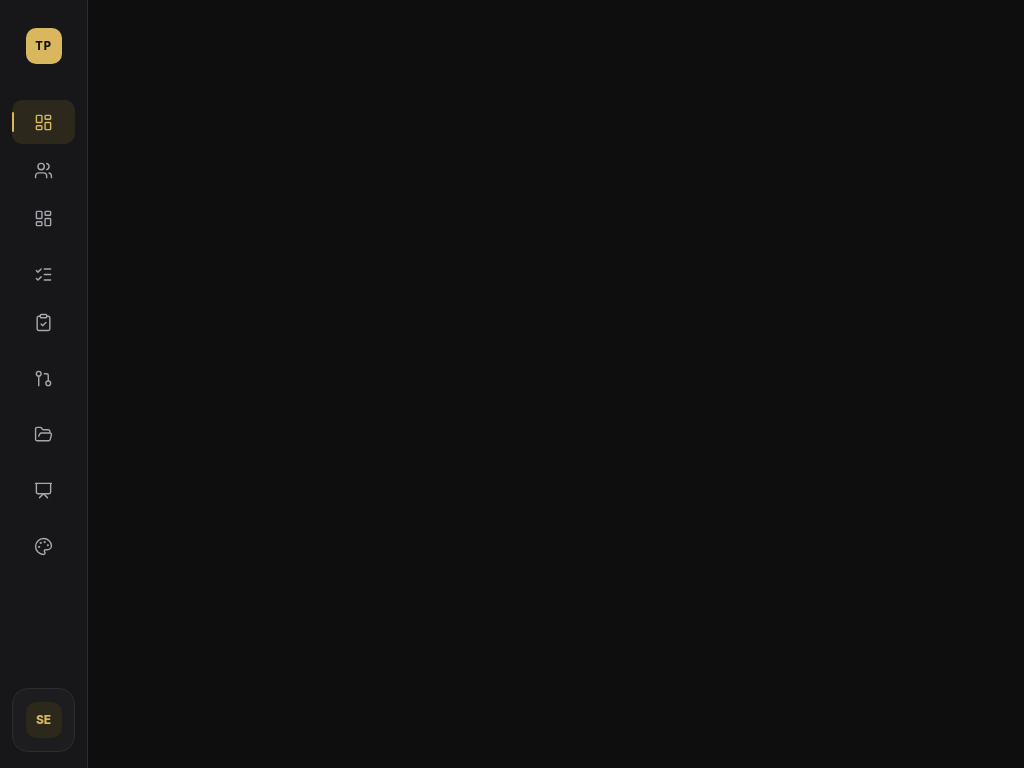
Test: workspace switcher › creates another workspace from the switcher and opens its project list
Click the button named "Current workspace Software Engineering 4 members": coordinates (44, 720) [12,688,75,752]
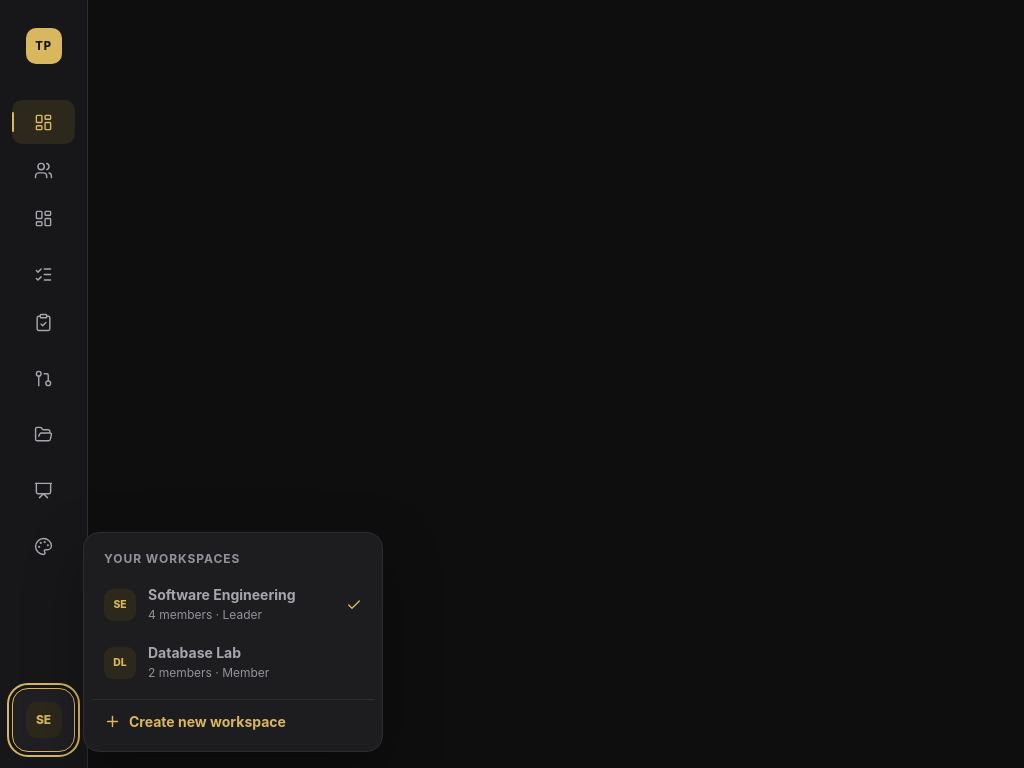
Click the menu item "Create new workspace": coordinates (233, 721) [92,699,374,743]
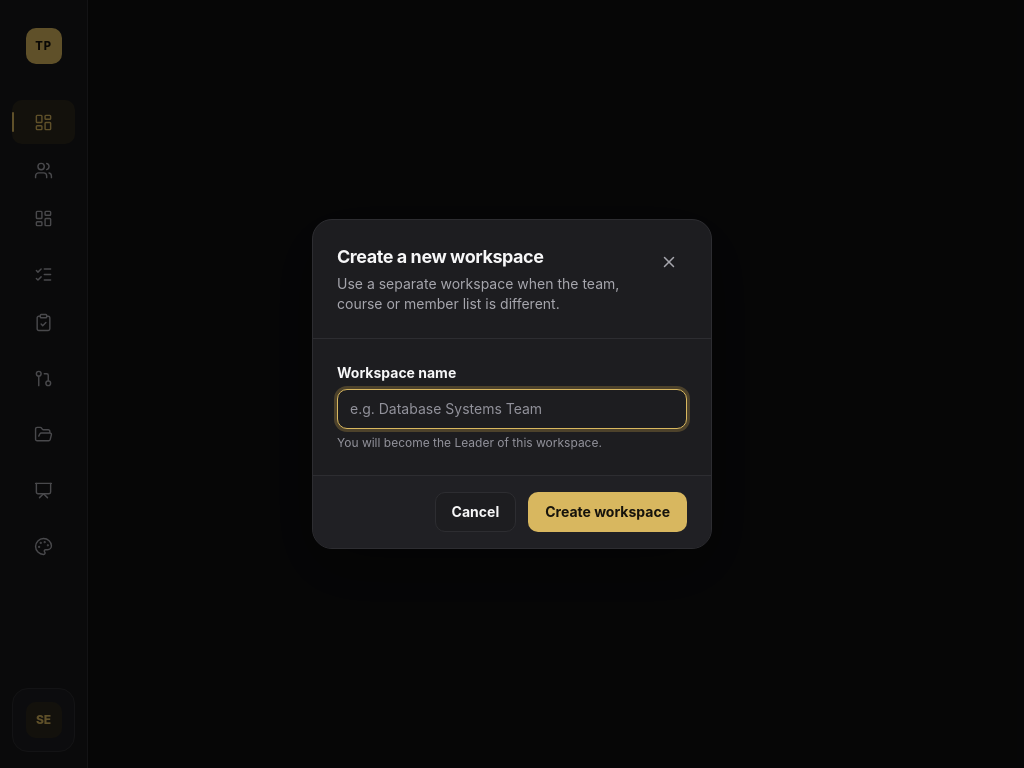
In the field labelled "Workspace name": coordinates (512, 409) [338,390,686,428], type "Operating Systems"
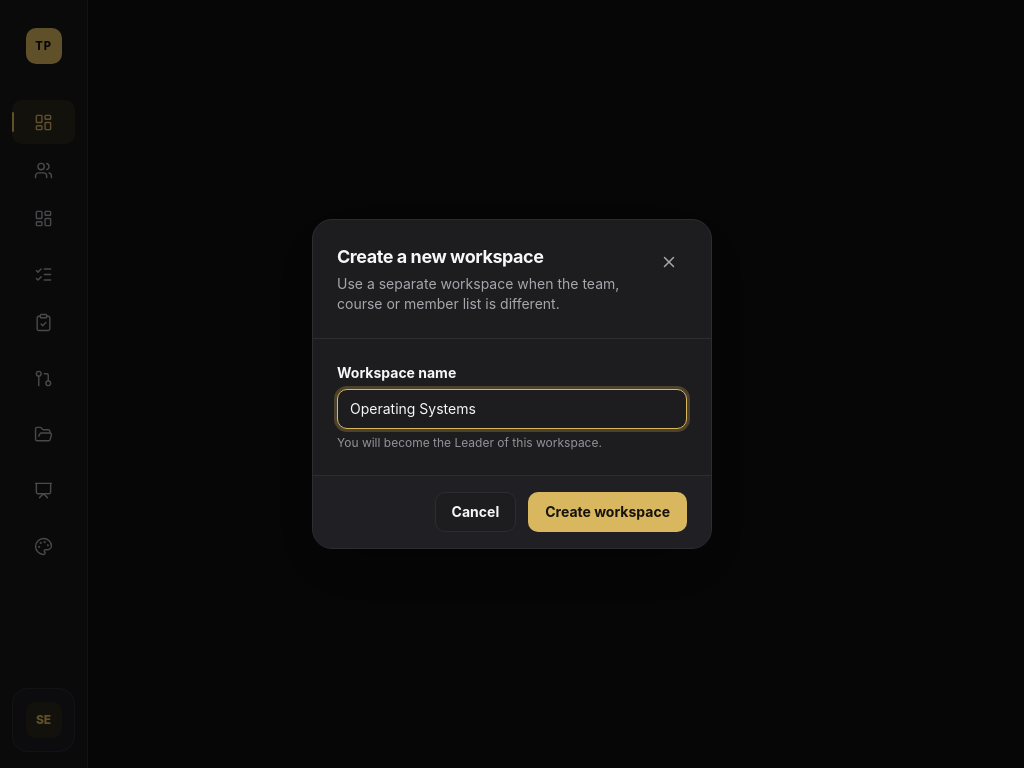
Click the button "Create workspace": coordinates (608, 512) [528,492,687,532]
(page scrolled)
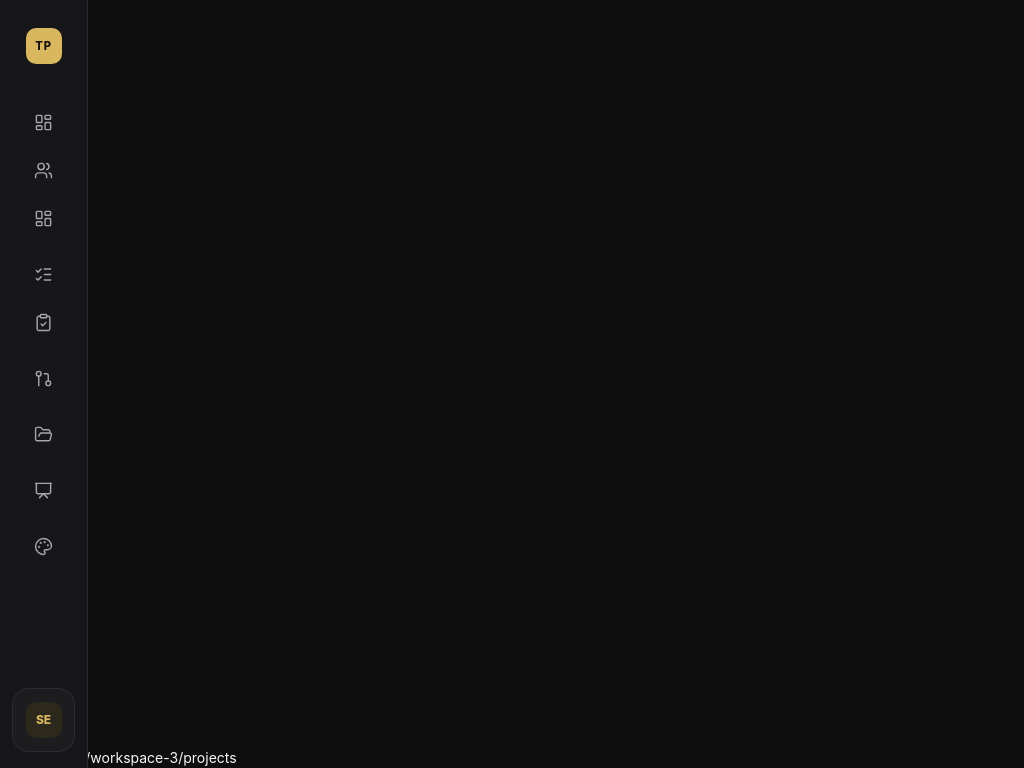
expect the text named "Current location" reads "/workspaces/workspace-3/projects": met, box [0,749,237,766]
